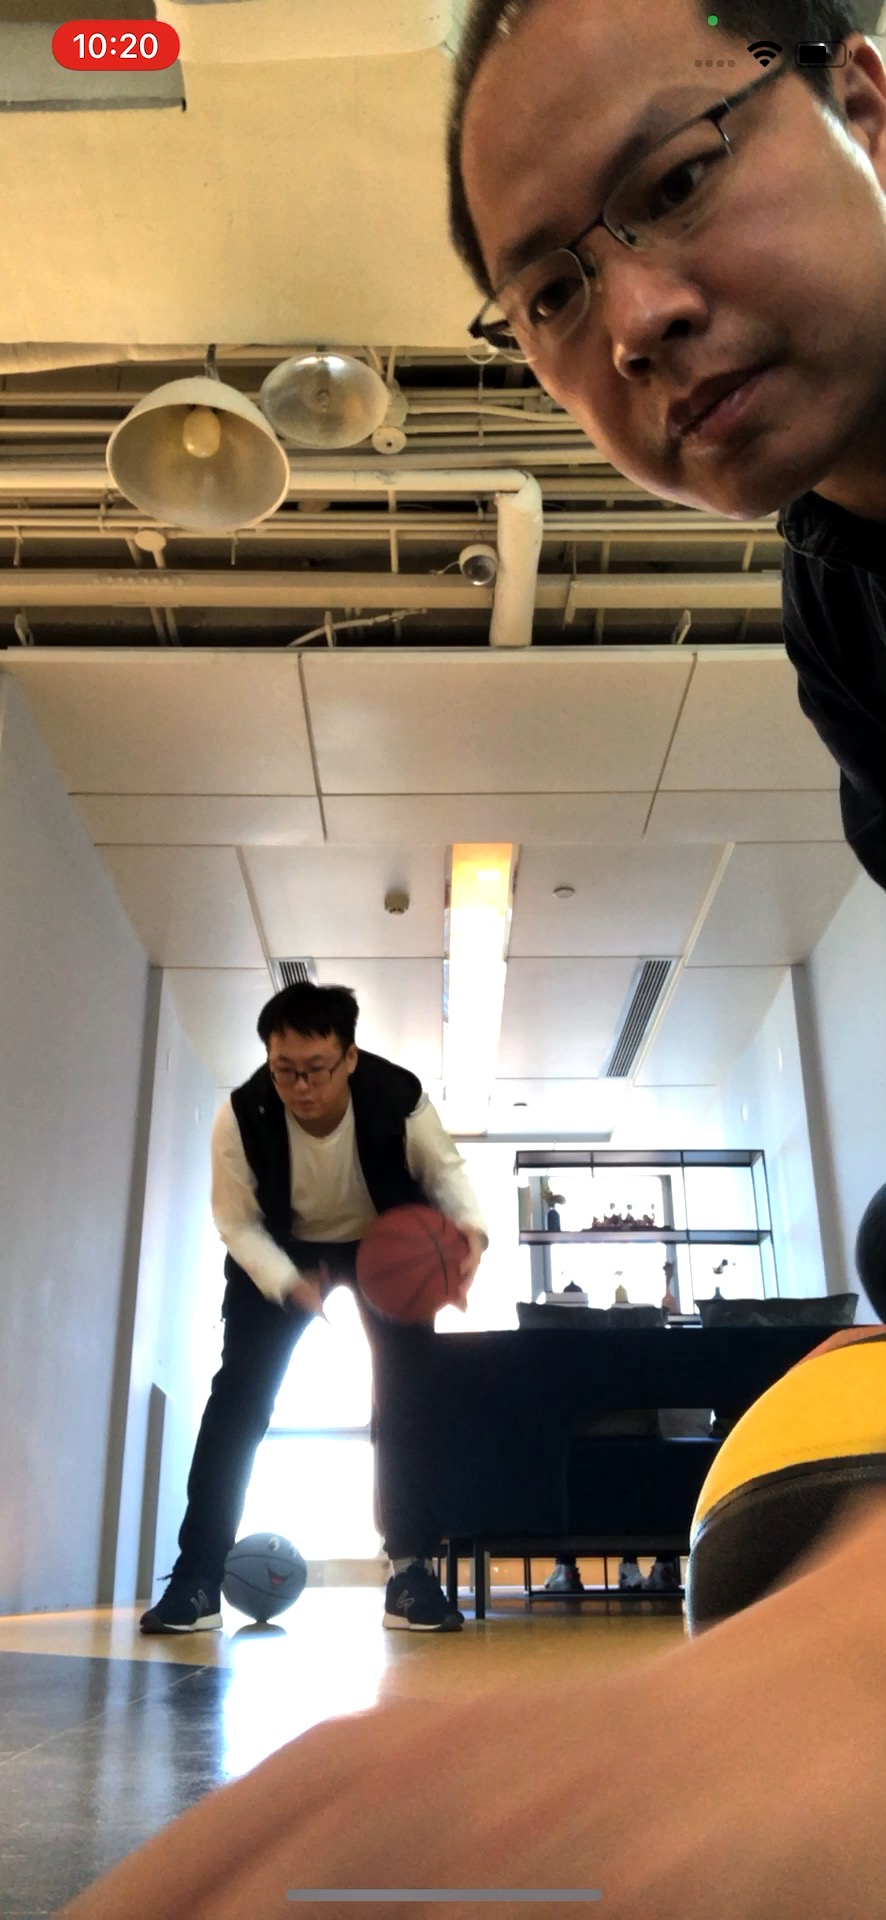ball: (352, 1204, 476, 1321), (218, 1533, 315, 1621)
